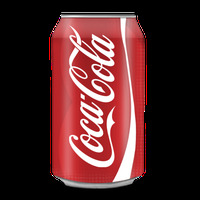coke: (51, 11, 145, 185)
